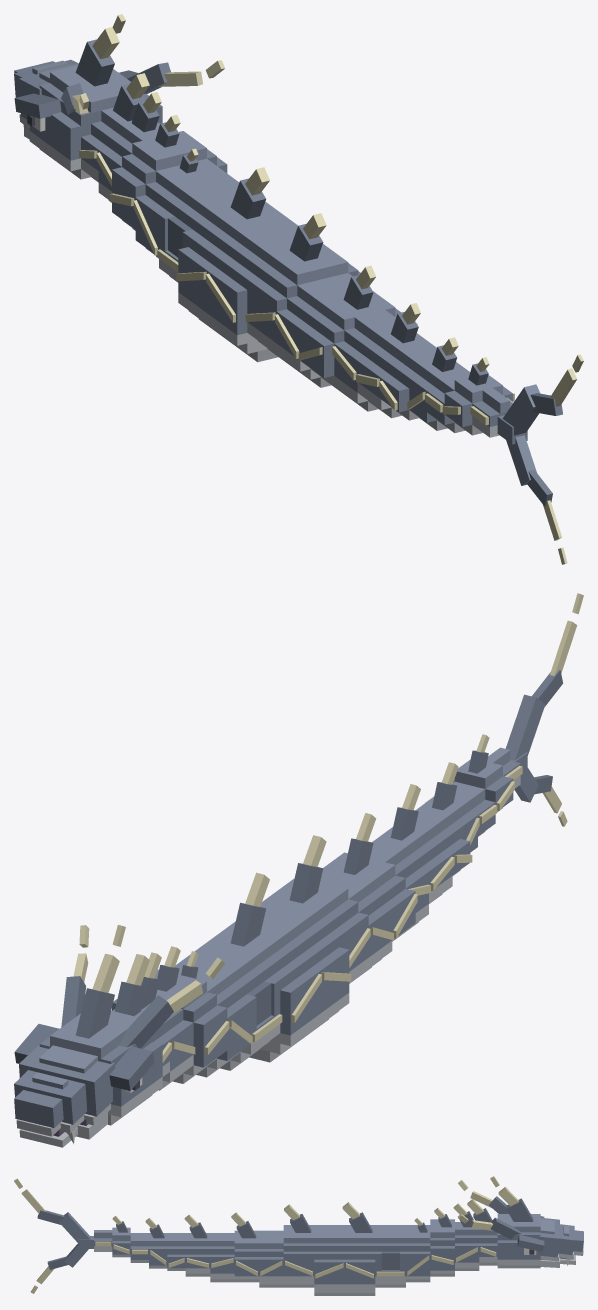
Rendered from StormSerpent.glb.
3 views of the same model, one above another, from view 1: azimuth 30°, elevation 25°; view 2: azimuth 150°, elevation 25°; view 3: azimuth 270°, elevation 25° (orthographic). The views are drawn at different scales.
Visible parts, largest first — view 1: Head, S7, S8, S6, S3, S10, S5, Tail, S4, S9, S12, S11 (+10 smaller); view 2: Head, S6, S7, S5, S8, S3, S10, Tail, S12, S4, S9, S2 (+10 smaller); view 3: Head, S6, S7, S8, S5, S3, S10, S4, S9, Tail, S12, S11 (+17 smaller).
Part boxes in pixels (box(x1,y1,x2,y2)): Head: box(14, 39, 170, 179); S7: box(207, 219, 297, 362); S8: box(247, 223, 360, 370); S6: box(178, 178, 288, 340); S3: box(112, 122, 227, 230); S10: box(300, 275, 400, 393); S5: box(159, 176, 239, 282); Tail: box(497, 384, 562, 506); S4: box(135, 154, 229, 256); S9: box(277, 273, 352, 387); S12: box(357, 312, 431, 418); S11: box(334, 310, 395, 411); Head: box(14, 976, 173, 1147); S6: box(209, 902, 319, 1062); S7: box(260, 898, 349, 1040); S5: box(180, 941, 280, 1070); S8: box(268, 863, 368, 982); S3: box(112, 965, 227, 1083); S10: box(323, 838, 415, 941); Tail: box(505, 669, 563, 802); S12: box(378, 807, 452, 903); S4: box(175, 962, 250, 1077); S9: box(320, 870, 392, 983); S2: box(141, 977, 193, 1090); Head: box(489, 1196, 583, 1268); S6: box(344, 1212, 375, 1295); S7: box(314, 1225, 344, 1295); S8: box(283, 1214, 314, 1287); S5: box(375, 1225, 405, 1287); S3: box(430, 1214, 454, 1276); S10: box(234, 1221, 259, 1282); S4: box(406, 1222, 430, 1282); S9: box(259, 1230, 283, 1287); Tail: box(37, 1210, 93, 1269); S12: box(185, 1222, 210, 1276); S11: box(210, 1233, 234, 1282).
Size of the model in its own units: 6.24 by 9.51 by 41.94.
